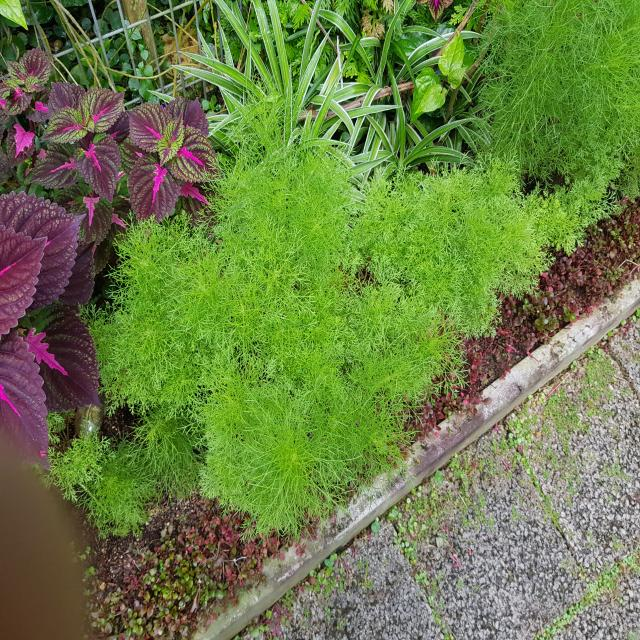Coleus: (0, 193, 107, 410), (32, 82, 132, 202), (130, 94, 203, 215)
Dill: (120, 264, 374, 492), (354, 150, 534, 377), (495, 2, 640, 197)
